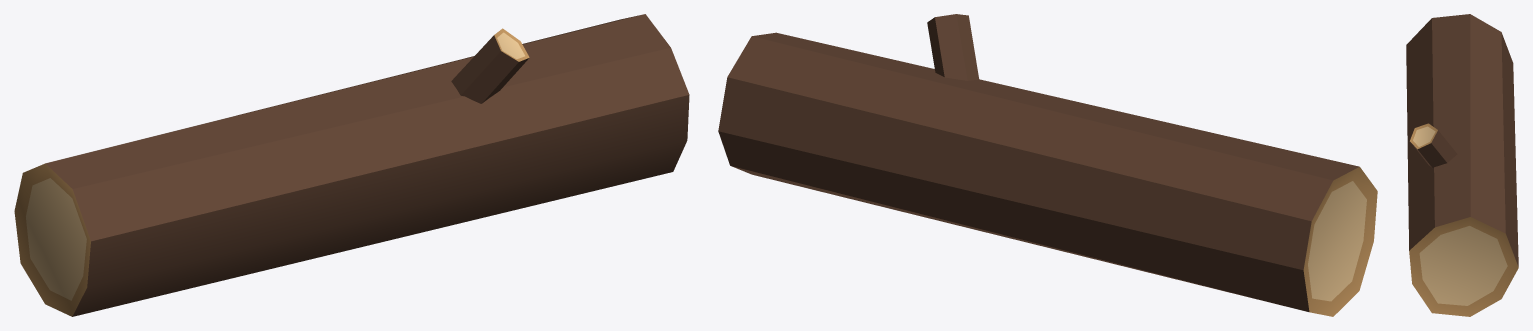
Rendered from SM_Log_Large.glb.
The picture shows the model from 3 angles, left to right: view 1: azimuth 30°, elevation 25°; view 2: azimuth 150°, elevation 25°; view 3: azimuth 270°, elevation 25°; orthographic projection. The views are drawn at different scales.
Parts seen in each view (by area): view 1: SM_Log_Large; view 2: SM_Log_Large; view 3: SM_Log_Large.
Boxes of the visible parts, x1,y1,x2,y2 form: SM_Log_Large: (14,14,689,316); SM_Log_Large: (718,14,1377,316); SM_Log_Large: (1406,14,1518,316).
Bounding box in the file's own units: 1.4 × 0.4207 × 0.3252.
1 material, 1 textured.
